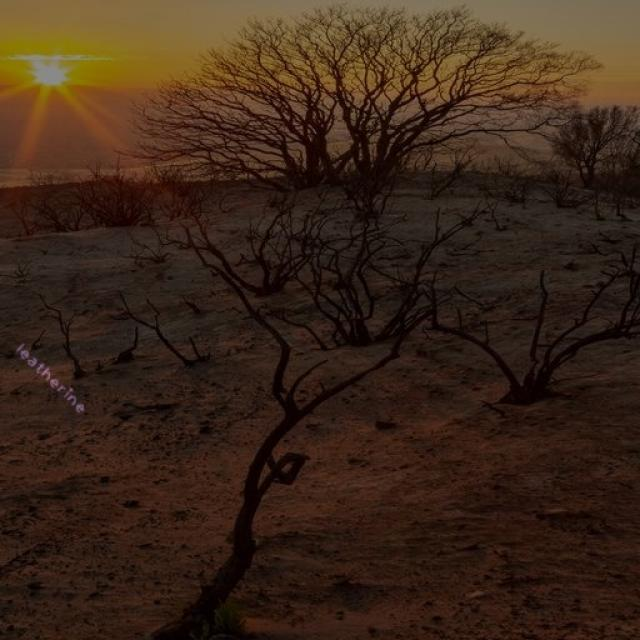watermark: (9, 338, 91, 417)
